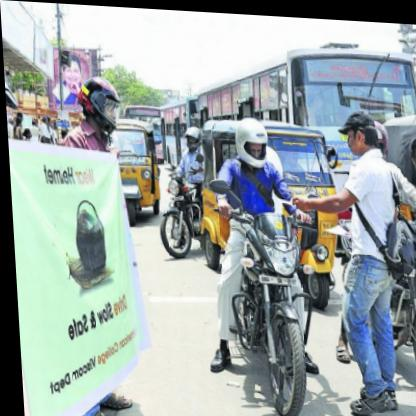With Helmet: (71, 70, 127, 136), (227, 104, 277, 168)
